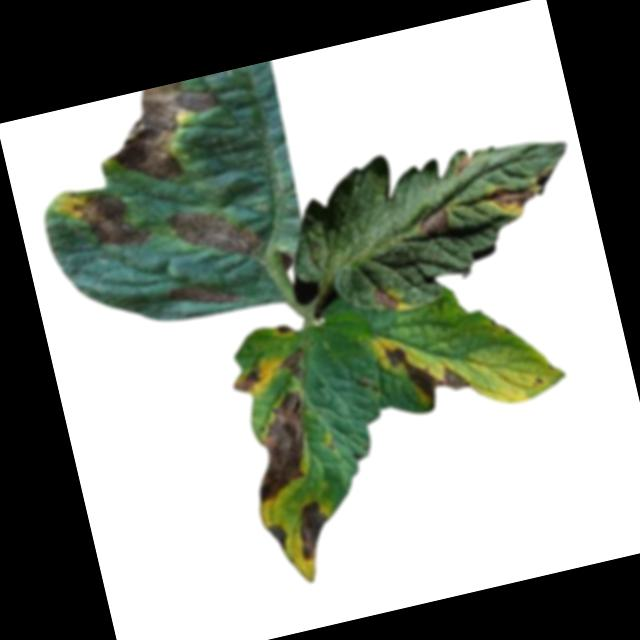Early_blight: (96, 75, 232, 191), (233, 388, 322, 503), (162, 193, 264, 272), (382, 329, 471, 412), (72, 180, 152, 257), (163, 270, 244, 318), (290, 495, 337, 561), (484, 175, 539, 218), (413, 205, 453, 240), (367, 280, 402, 315), (277, 346, 310, 382), (229, 364, 262, 394), (264, 521, 291, 554), (450, 152, 473, 174), (276, 320, 293, 337)
